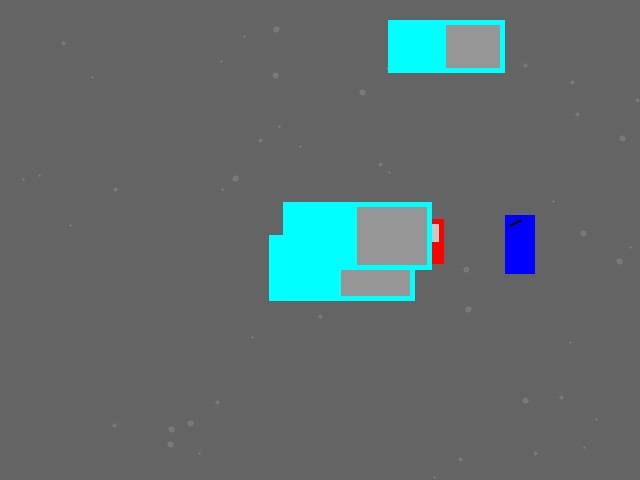car: (354, 219, 443, 263)
motorcycle: (505, 215, 534, 273)
truck: (283, 202, 431, 269), (269, 235, 414, 300), (388, 20, 504, 72)
